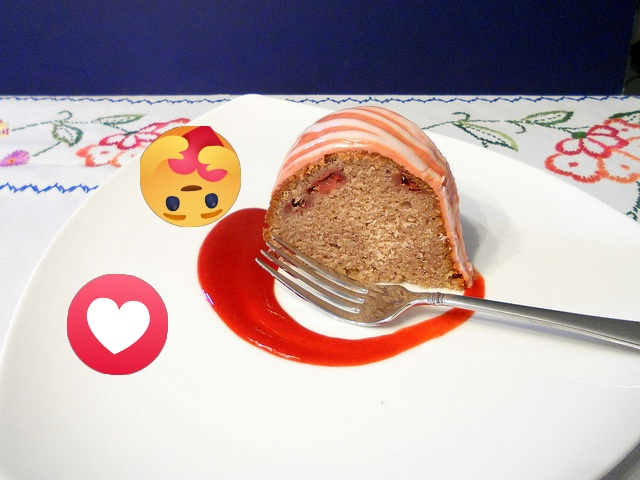care: (140, 126, 241, 227)
love: (67, 274, 168, 375)
